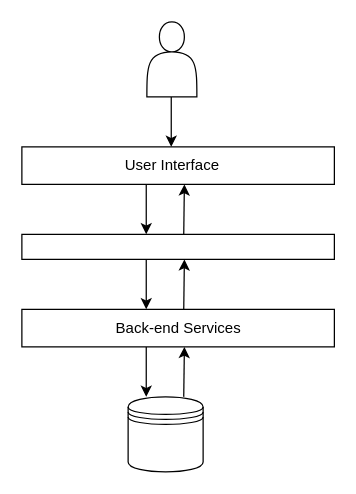
This 356x494 diagram has some shape labels left out. The shapes that lost their labels are listed below. From the top down, each one's box as (x1, y1, x2, y2) in pixels, then its label:
(21, 233, 334, 259): API
(127, 396, 203, 472): DB
